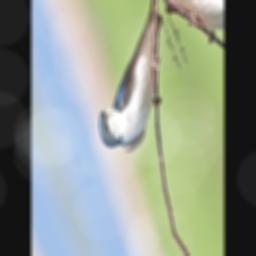Swallow: (78, 0, 190, 177)
